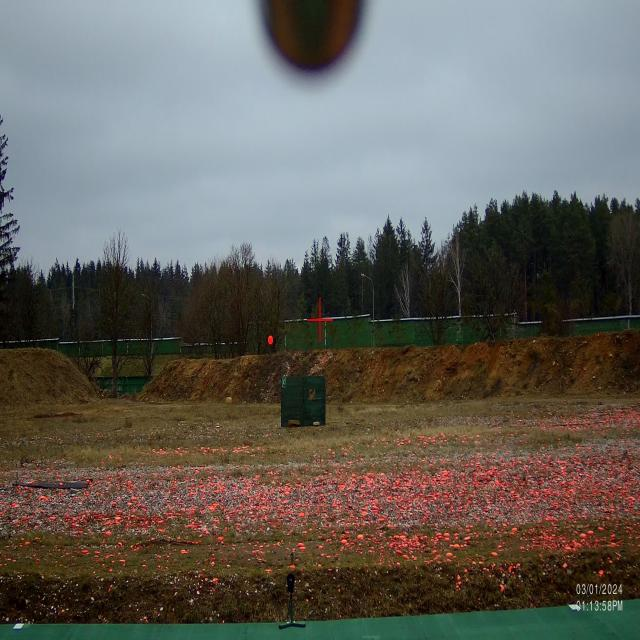entire: (265, 331, 277, 350)
